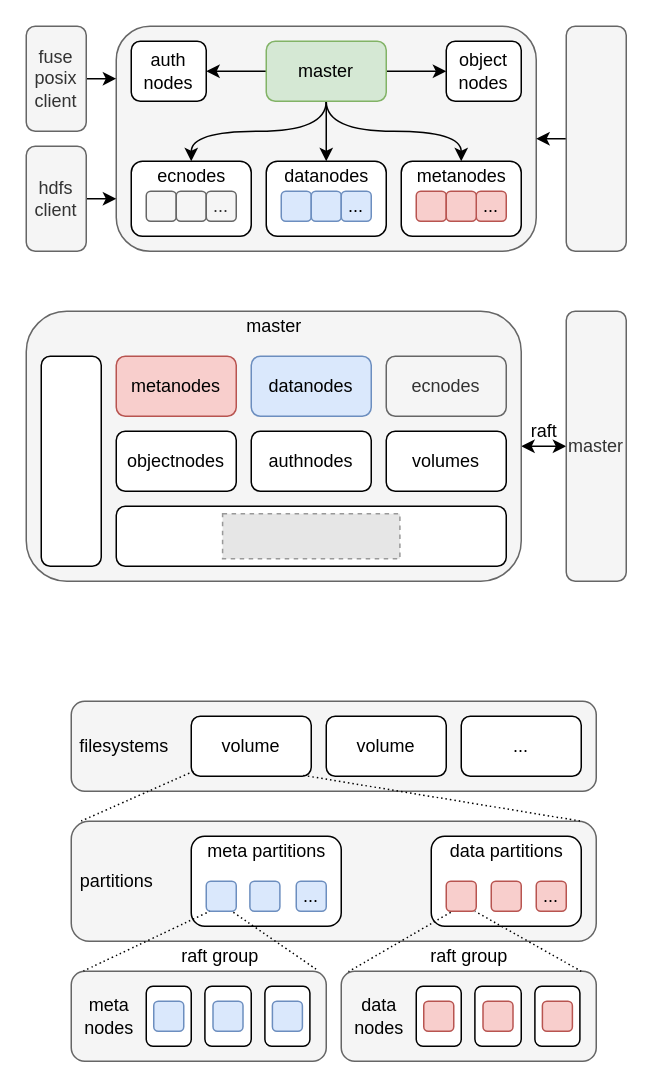
Some shapes in this 653 by 1088 pixel diagram are drawn without their labels. Grey dashed boxes stand in for pictures. Here are the shapes that lost their labels. From the top down, the centre of each, then its label:
At point 595,138: "s3 client".
At point 70,460: "http".
